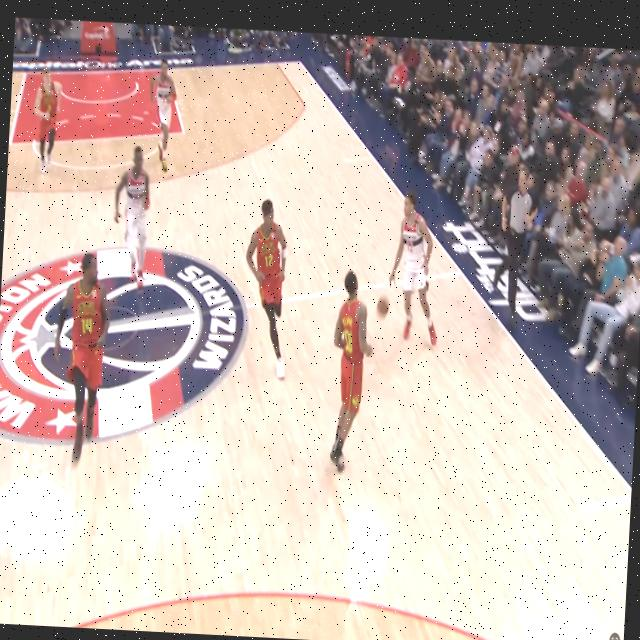no foul: (303, 184, 488, 482)
